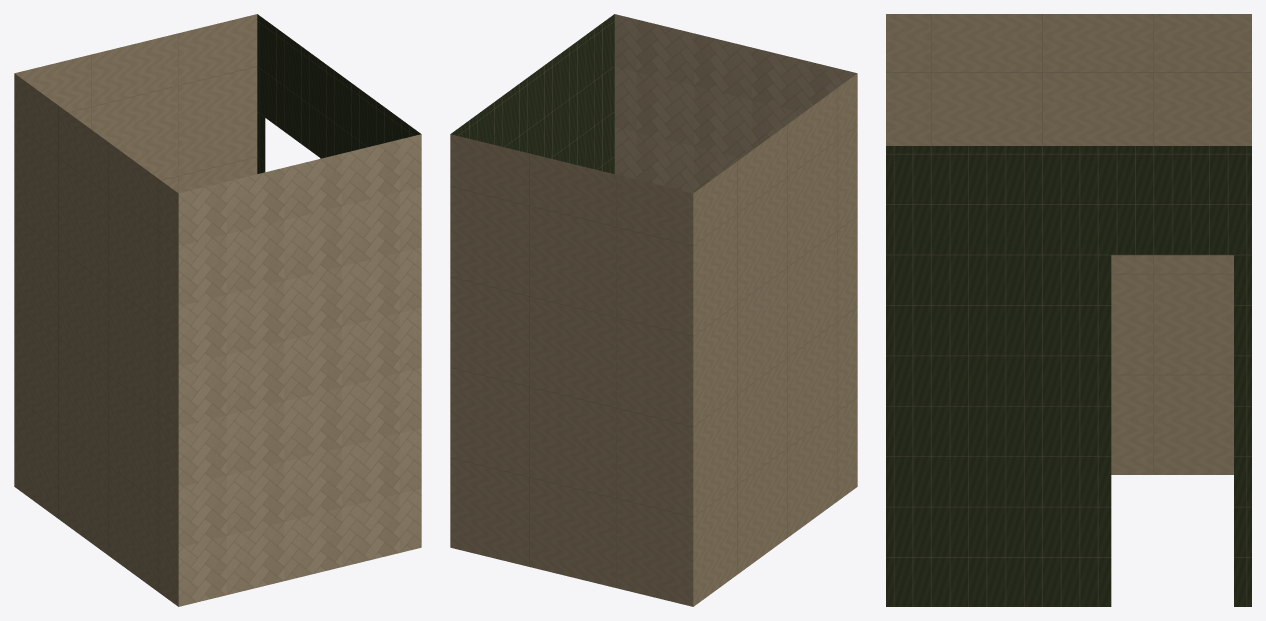
Rendered from r_toilet2-lining.glb.
The picture shows the model from 3 angles, left to right: view 1: azimuth 30°, elevation 25°; view 2: azimuth 150°, elevation 25°; view 3: azimuth 270°, elevation 25°; orthographic projection. The views are drawn at different scales.
Visible parts, largest first — view 1: bath-beige-herringbone wall, bath-warm-stone wall, bath-olive-kitkat wall; view 2: bath-warm-stone wall, bath-beige-herringbone wall, bath-olive-kitkat wall; view 3: bath-olive-kitkat wall, bath-warm-stone wall.
Part boxes in pixels (<box>): bath-beige-herringbone wall: <box>178,134,421,606</box>; bath-warm-stone wall: <box>14,14,257,606</box>; bath-olive-kitkat wall: <box>257,14,421,173</box>; bath-warm-stone wall: <box>450,73,857,606</box>; bath-beige-herringbone wall: <box>614,14,856,193</box>; bath-olive-kitkat wall: <box>450,14,614,173</box>; bath-olive-kitkat wall: <box>886,146,1251,606</box>; bath-warm-stone wall: <box>886,14,1251,474</box>.
Size of the model in its own units: 1.69 by 2.74 by 1.97.
3 materials, 3 textured.
